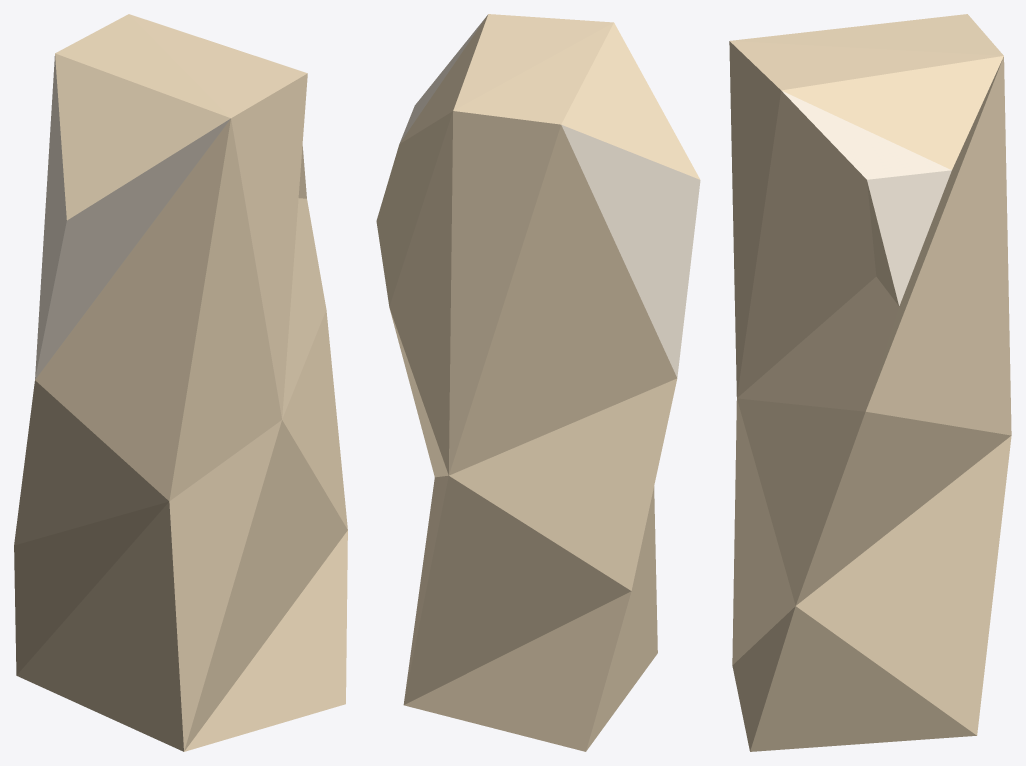
The model's file is desert_rock_14.fbx.
3 views of the same model, side by side, from view 1: azimuth 30°, elevation 25°; view 2: azimuth 150°, elevation 25°; view 3: azimuth 270°, elevation 25° (orthographic). The views are drawn at different scales.
Parts seen in each view (by area): view 1: desert_rock_14; view 2: desert_rock_14; view 3: desert_rock_14.
Part boxes in pixels (<box>): desert_rock_14: <box>14,14,347,751</box>; desert_rock_14: <box>376,14,700,751</box>; desert_rock_14: <box>729,14,1011,751</box>.
Size of the model in its own units: 75.06 by 154 by 60.7.
